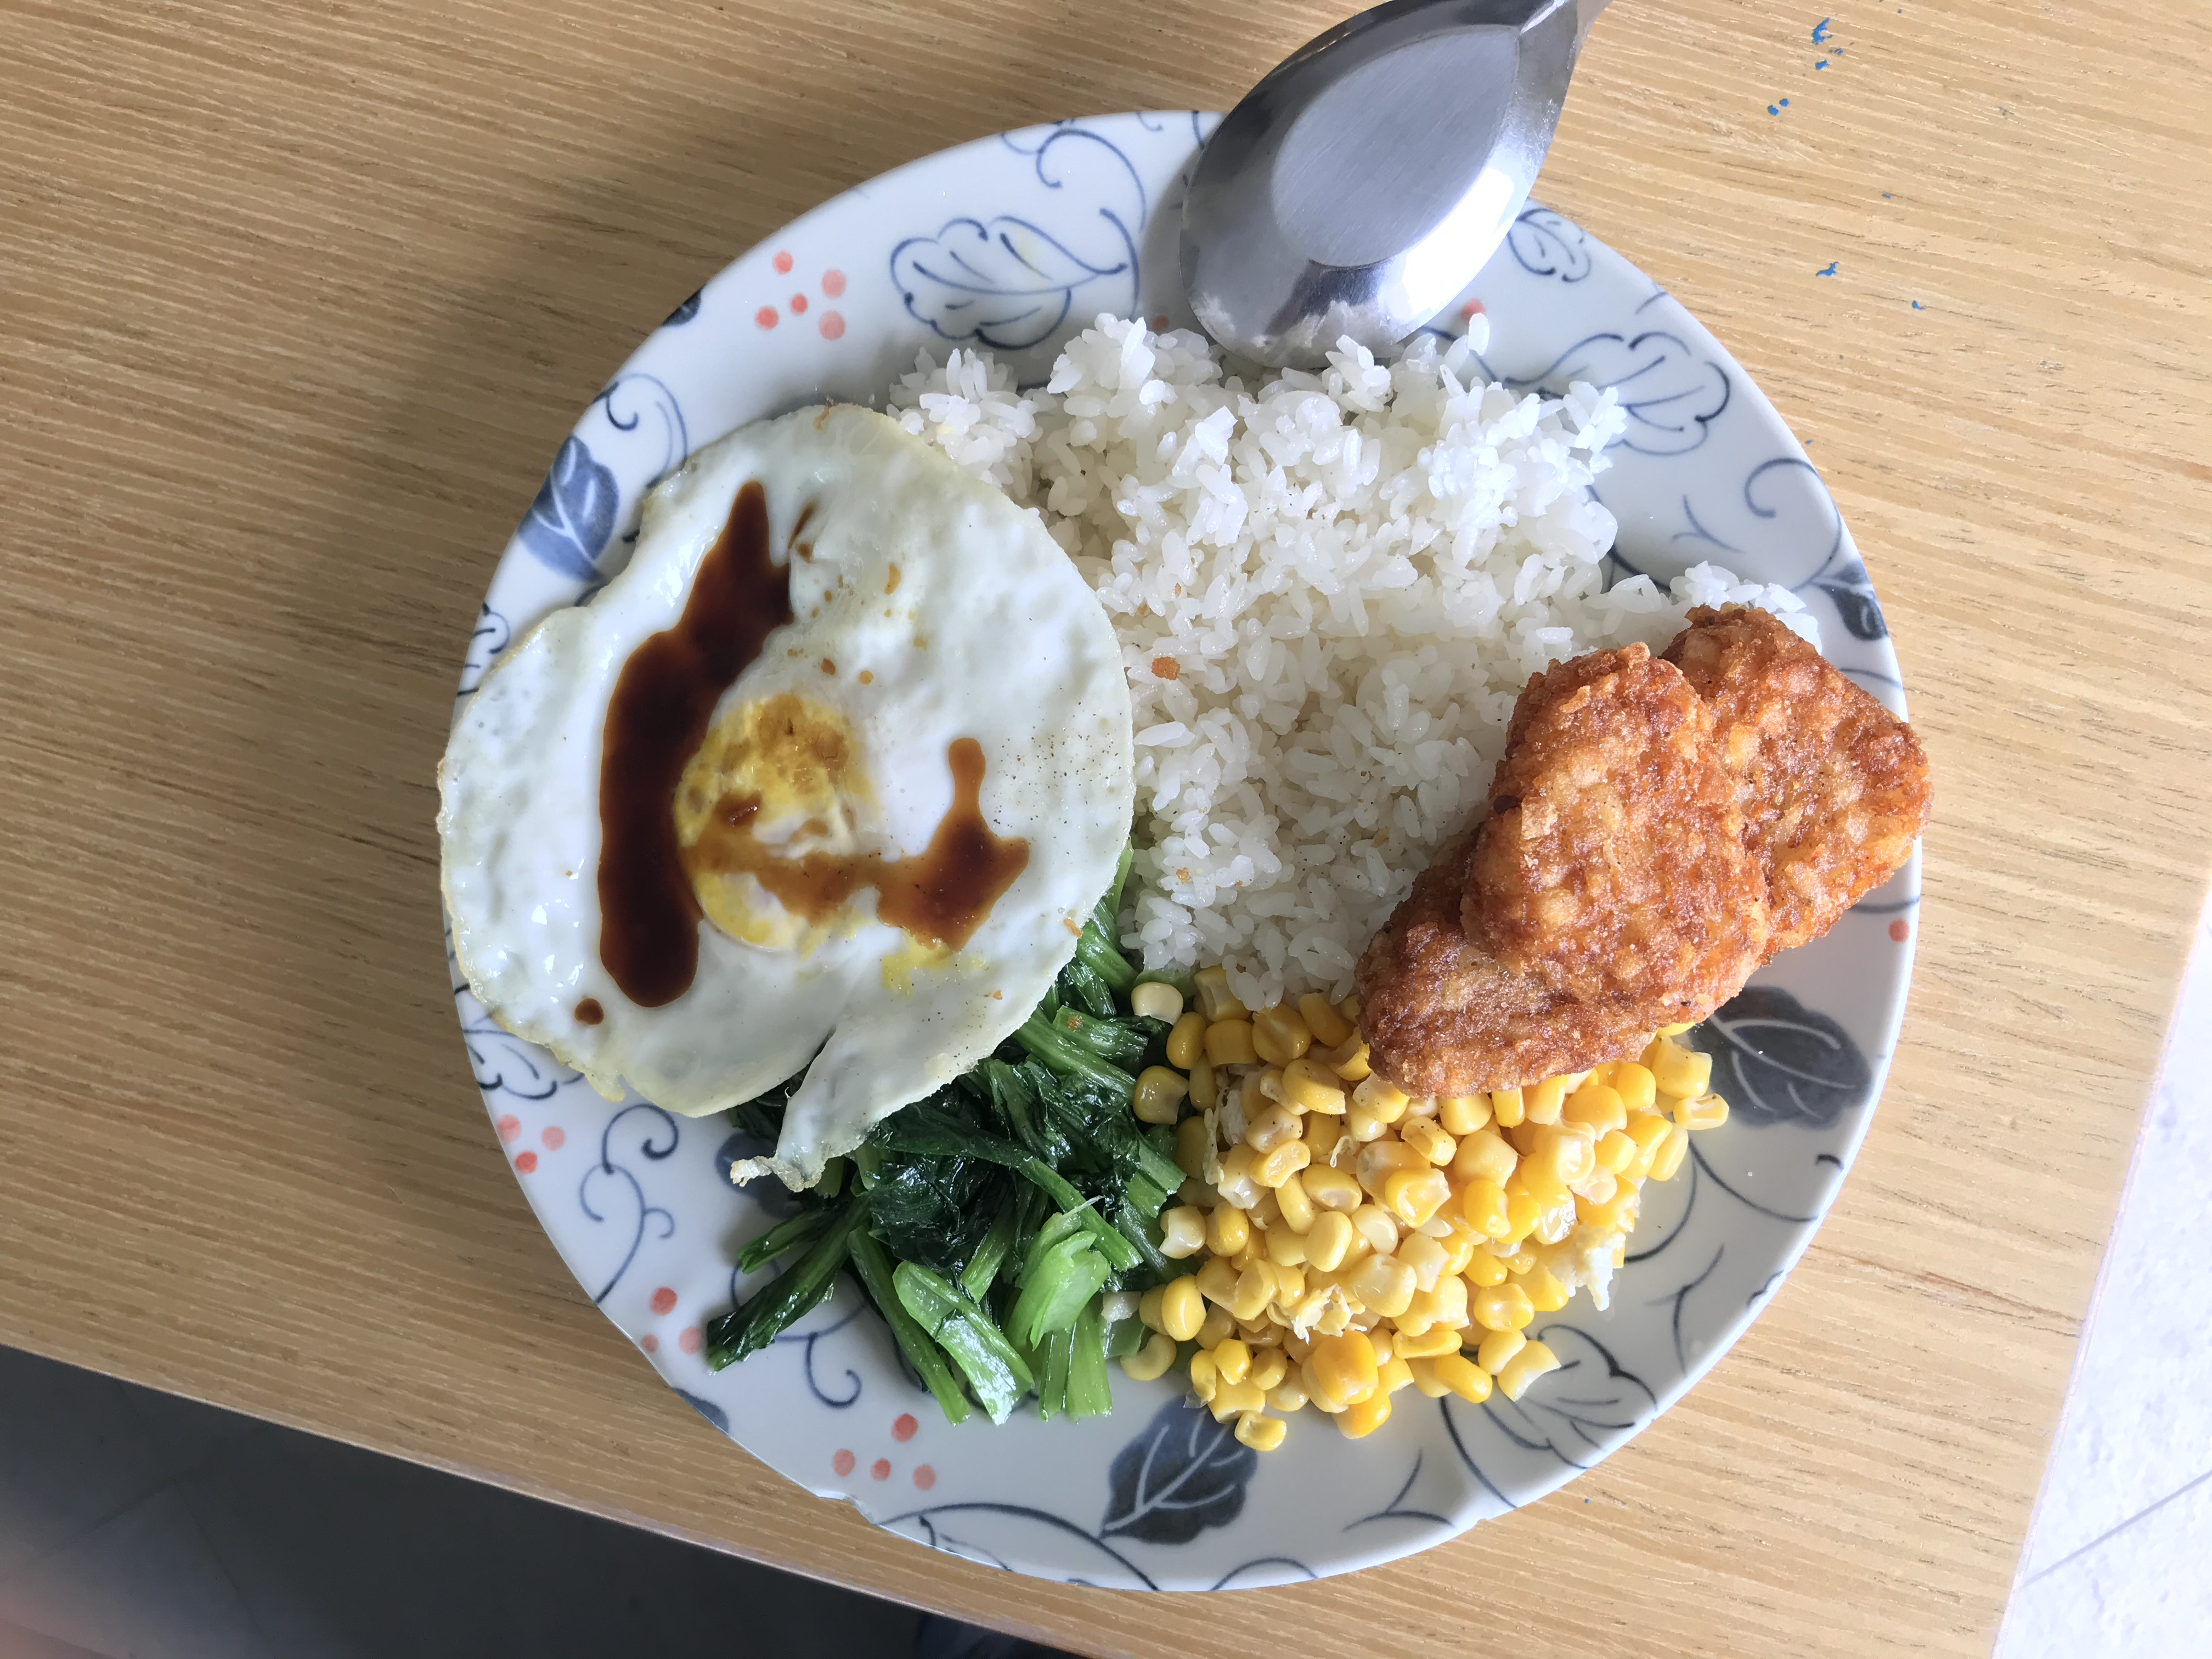fried_eggs: (442, 403, 1134, 1119)
rice: (1137, 343, 1512, 903)
triangle_hash_brown: (1359, 606, 1930, 1096)
water_spinach: (714, 967, 1193, 1422)
